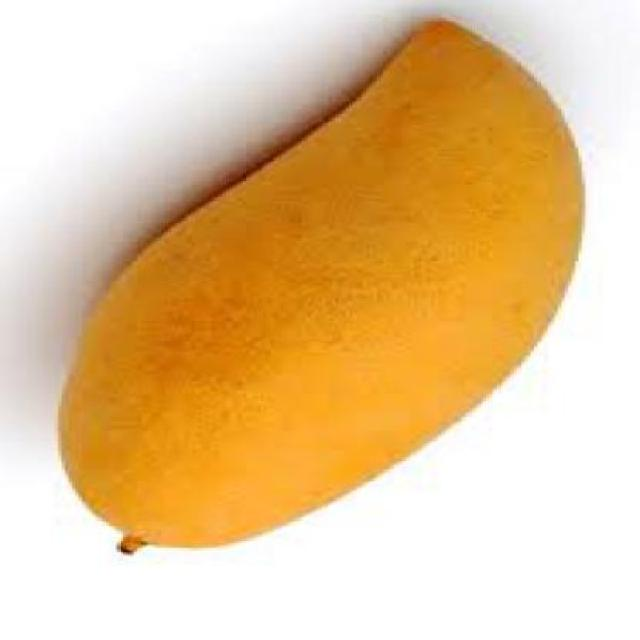BIODEGRADABLE: (59, 21, 582, 557)
